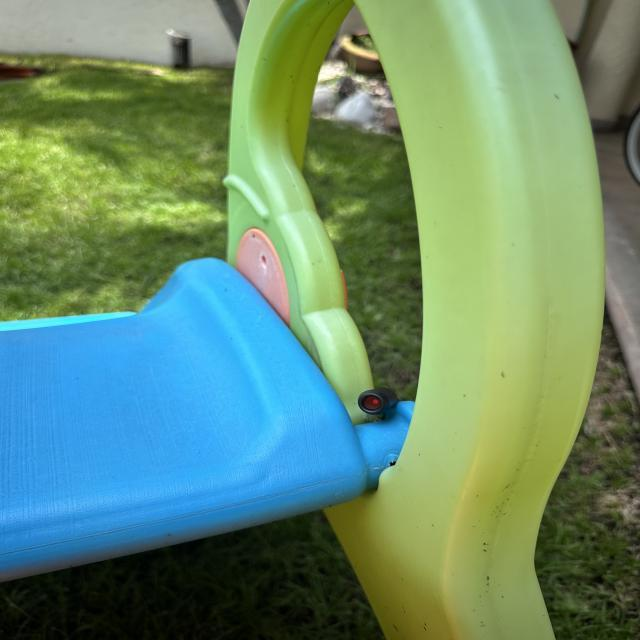hidden camera: (357, 392, 386, 415)
